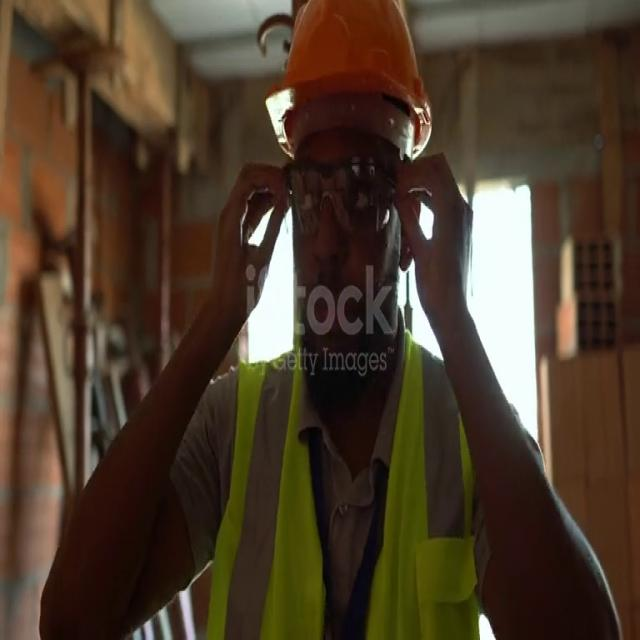capacete: (268, 3, 449, 174)
